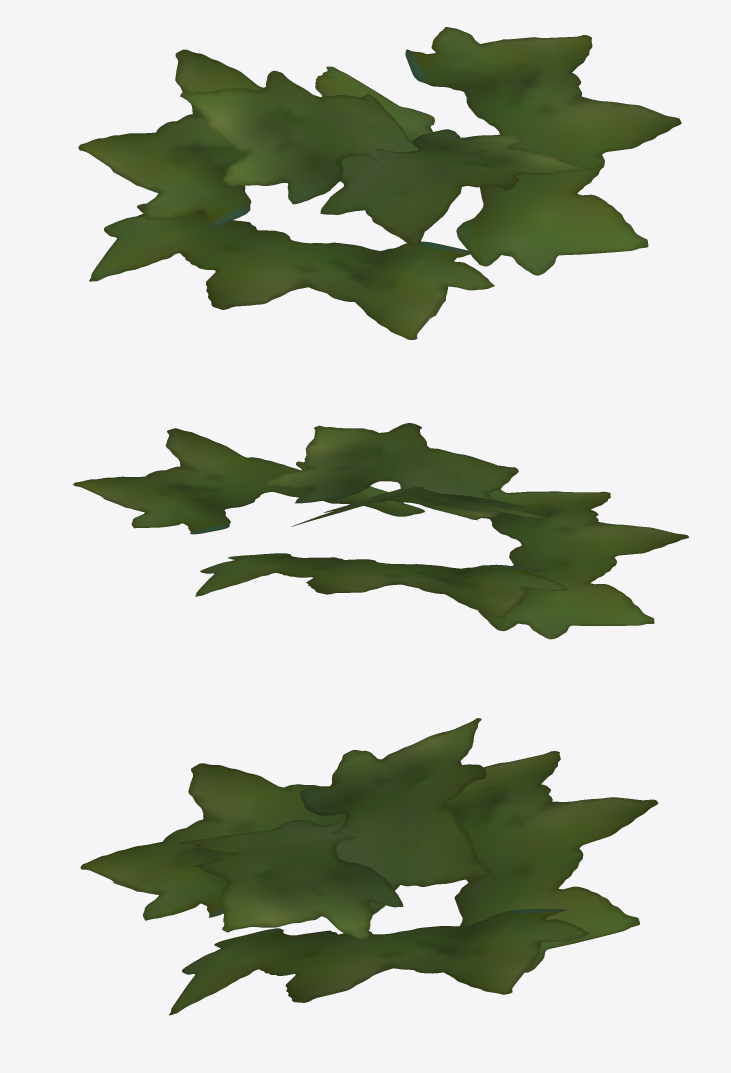
The model's file is grove_B.fbx.
3 views of the same model, one above another, from view 1: azimuth 30°, elevation 25°; view 2: azimuth 150°, elevation 25°; view 3: azimuth 270°, elevation 25° (orthographic). The views are drawn at different scales.
Parts seen in each view (by area): view 1: grove_B; view 2: grove_B; view 3: grove_B.
Boxes of the visible parts, <box> form: grove_B: <box>78,27,681,339</box>; grove_B: <box>73,423,688,639</box>; grove_B: <box>80,718,658,1015</box>.
Bounding box in the file's own units: 1.67 × 0.3694 × 1.4.
